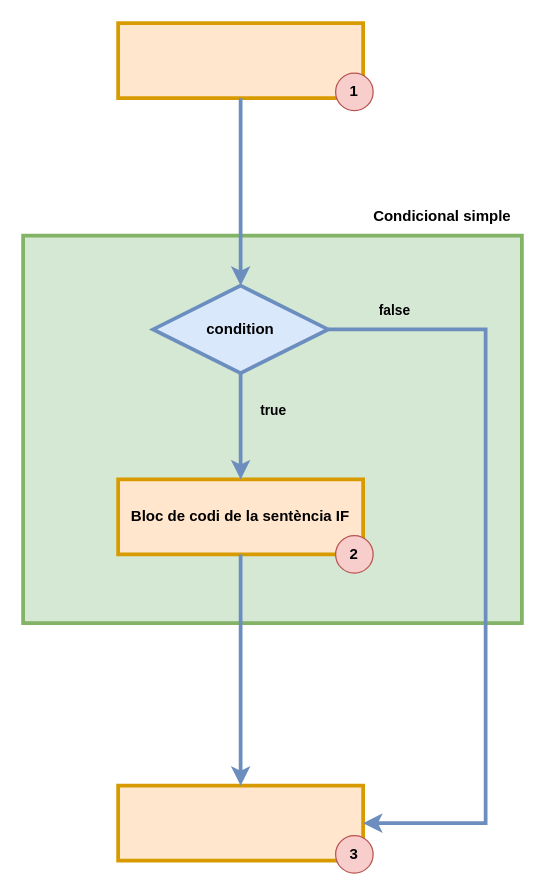
Some shapes in this 545 by 895 pixel diagram are drawn without their labels. The shapes that lost their labels are listed below. From the top down, each one's box as (x1, y1, x2, y2) in pixels, then its label:
(116, 21, 364, 99): Instruccions abans de la sentència IF
(116, 783, 364, 862): Instruccions després de la sentència IF
